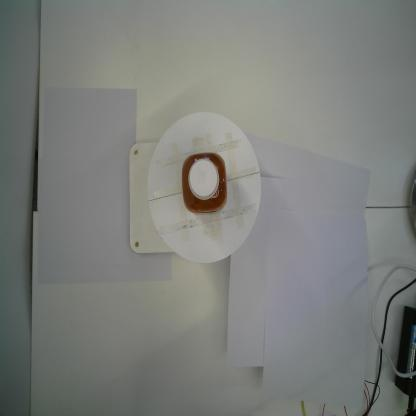Drink: (181, 151, 228, 215)
